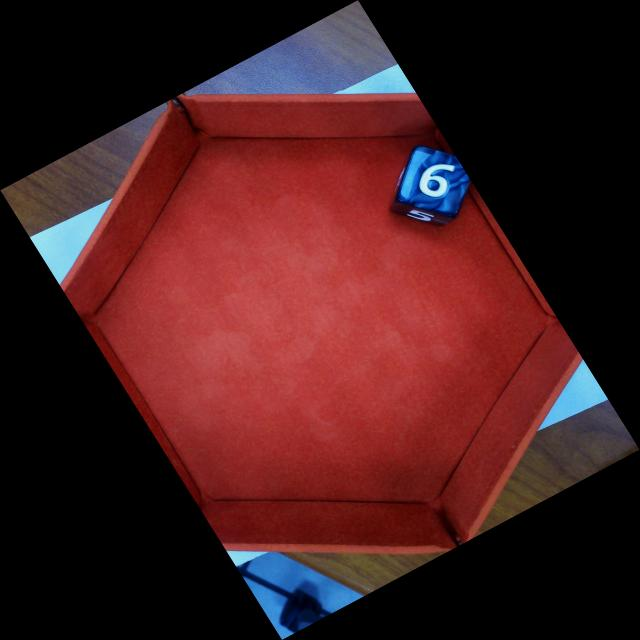dice: (397, 145, 472, 216)
